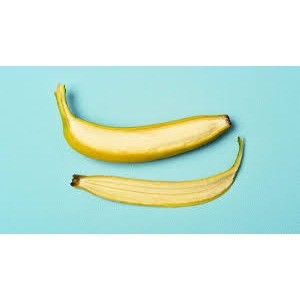banana_brain food: (57, 90, 232, 164)
